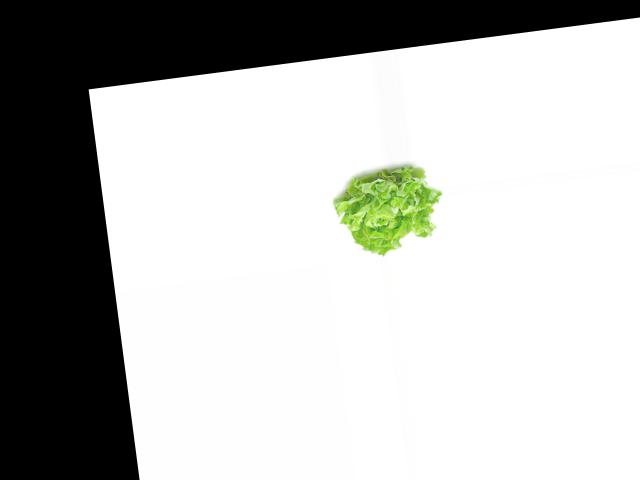lettuce: (331, 159, 447, 260)
